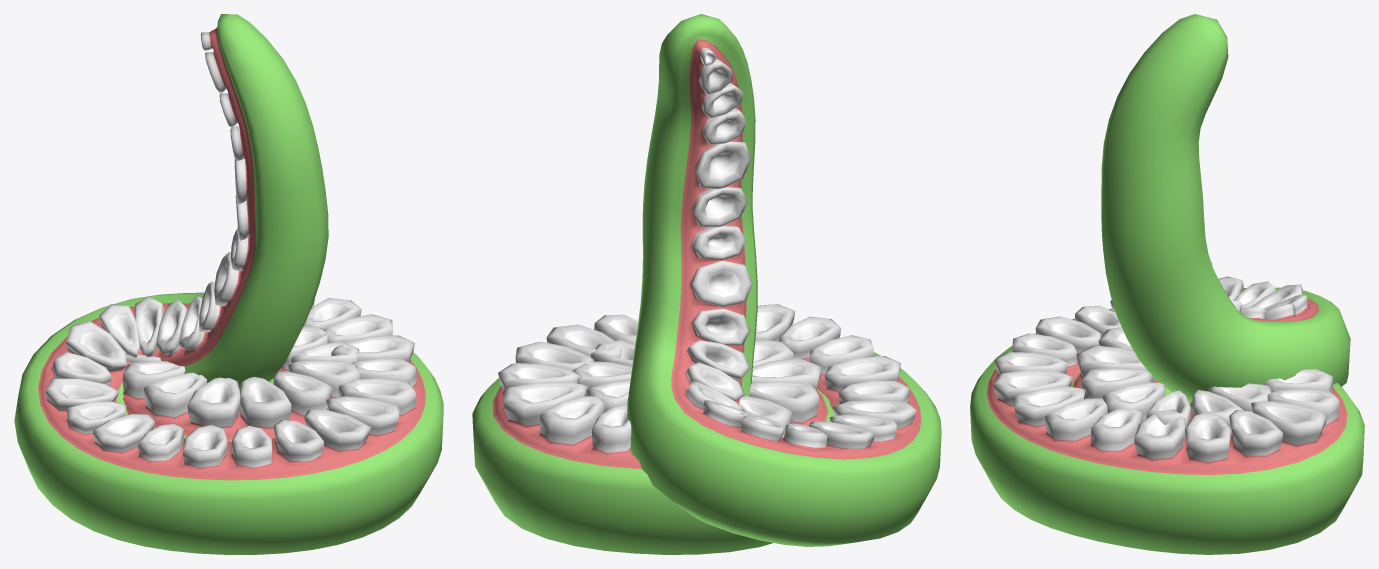
The model's file is Tentacle_Mid02.fbx.
3 views of the same model, side by side, from view 1: azimuth 30°, elevation 25°; view 2: azimuth 150°, elevation 25°; view 3: azimuth 270°, elevation 25° (orthographic). The views are drawn at different scales.
Parts seen in each view (by area): view 1: TentacleCurve_Mid02.001; view 2: TentacleCurve_Mid02.001; view 3: TentacleCurve_Mid02.001.
Part boxes in pixels (x1=…): TentacleCurve_Mid02.001: x1=14, y1=14, x2=443, y2=554; TentacleCurve_Mid02.001: x1=472, y1=14, x2=941, y2=554; TentacleCurve_Mid02.001: x1=970, y1=14, x2=1364, y2=554.
Size of the model in its own units: 286 by 334 by 255.
